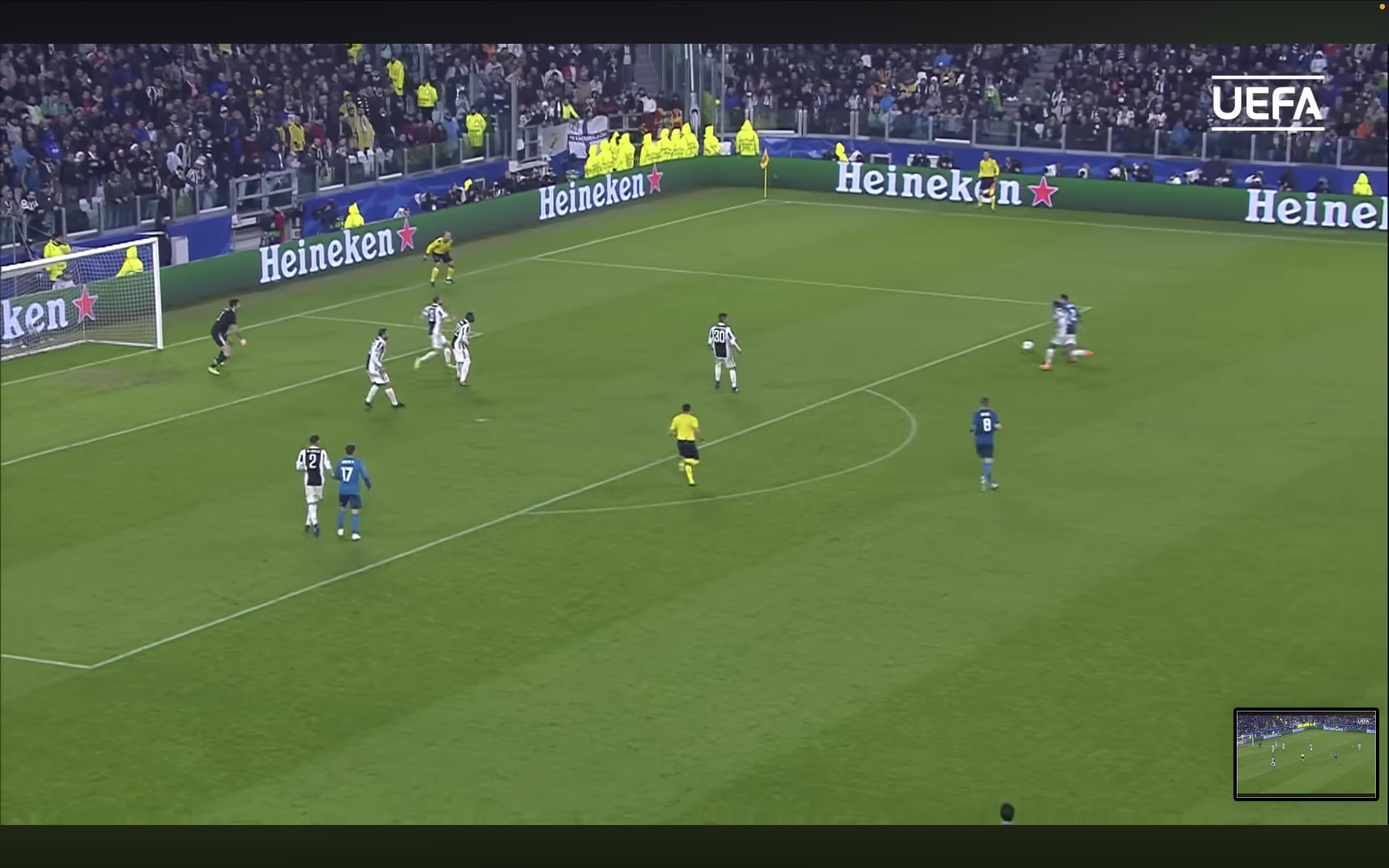ball: (1021, 340, 1034, 352)
goalkeeper: (208, 298, 239, 375)
player: (1041, 295, 1093, 370), (295, 435, 333, 536), (334, 444, 371, 540), (365, 327, 404, 410), (415, 296, 452, 369), (971, 398, 1000, 491), (708, 314, 741, 393), (452, 312, 475, 386), (1271, 756, 1276, 767)
referee: (668, 403, 700, 485), (425, 232, 454, 286), (976, 151, 1000, 209)
